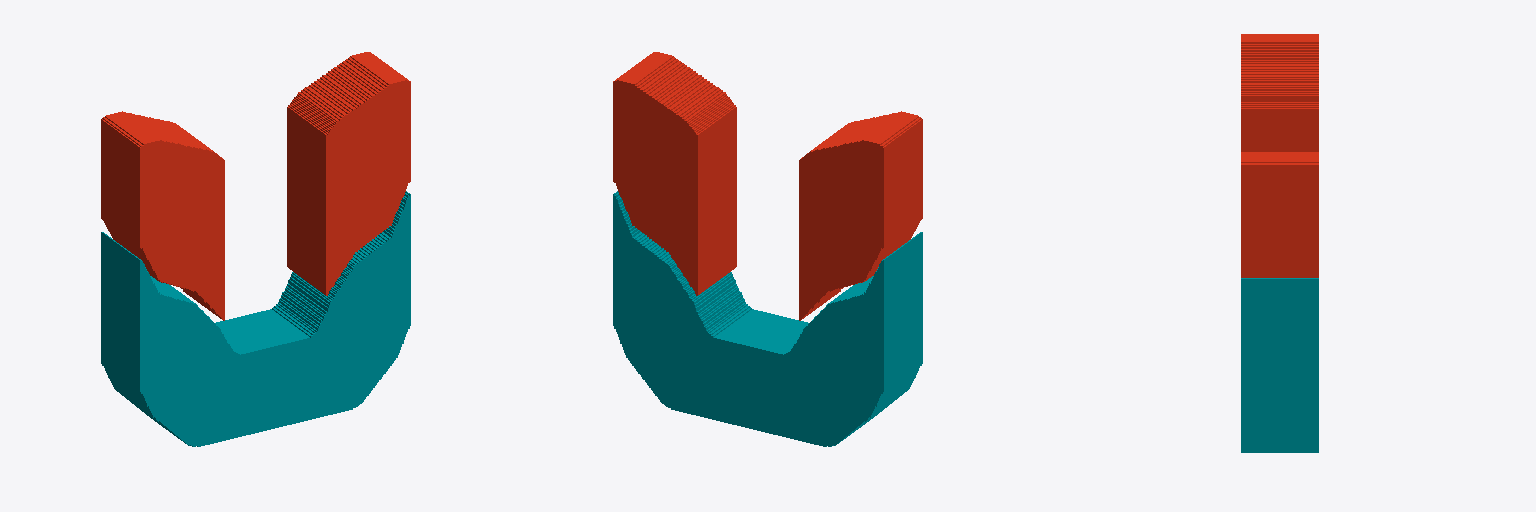
The picture shows the model from 3 angles: view 1: azimuth 30°, elevation 25°; view 2: azimuth 150°, elevation 25°; view 3: azimuth 270°, elevation 25°; orthographic projection.
Visible parts, largest first — view 1: object 1; view 2: object 1; view 3: object 1.
Part boxes in pixels (x1,y1,x2,y2): object 1: (101,52,410,446); object 1: (613,52,922,446); object 1: (1241,34,1318,452).
Size of the model in its own units: 22.4 by 25 by 5.6.
1 materials, 1 textured.